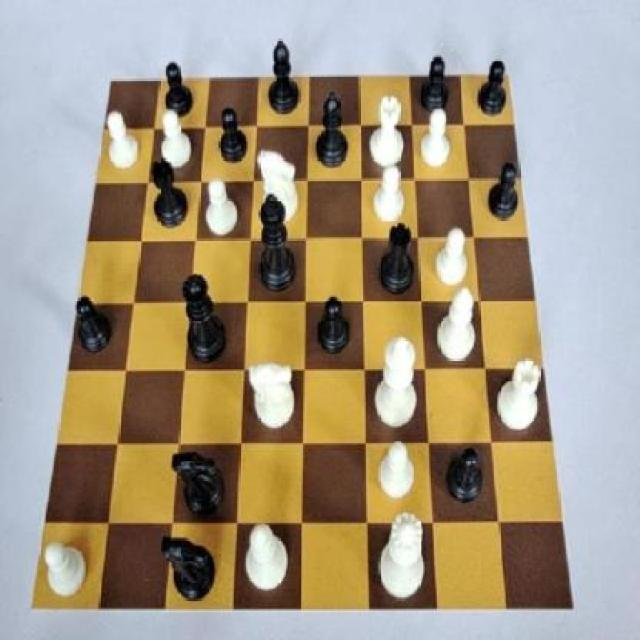bishop: (312, 88, 353, 180), (263, 36, 302, 120)
black-bishop: (255, 188, 301, 297)
black-king: (170, 438, 234, 526), (156, 526, 220, 606)
black-knight: (442, 438, 493, 514), (68, 291, 116, 368), (312, 286, 356, 362), (158, 49, 200, 126), (482, 158, 528, 228), (474, 54, 516, 126), (415, 48, 457, 120), (216, 105, 252, 170)
black-pawn: (179, 269, 233, 364)
black-queen: (148, 152, 193, 237), (372, 222, 422, 298)
black-rook: (240, 522, 295, 599), (434, 282, 484, 366)
white-bishop: (365, 334, 426, 436)
white-king: (246, 355, 300, 443), (256, 148, 306, 232)
white-knight: (42, 530, 90, 604), (412, 106, 460, 179), (198, 166, 244, 239), (430, 220, 474, 295), (374, 438, 418, 507), (155, 104, 197, 176), (369, 163, 412, 231), (103, 108, 145, 175)
white-pawn: (374, 506, 435, 607)
white-queen: (491, 352, 546, 435), (364, 91, 410, 172)
